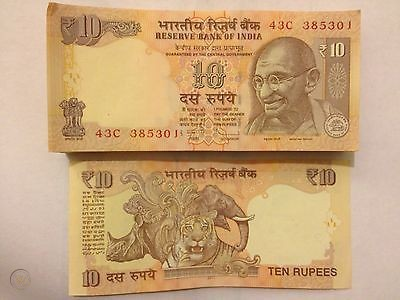ten_rupees_note: (45, 1, 359, 151), (67, 153, 352, 292)
